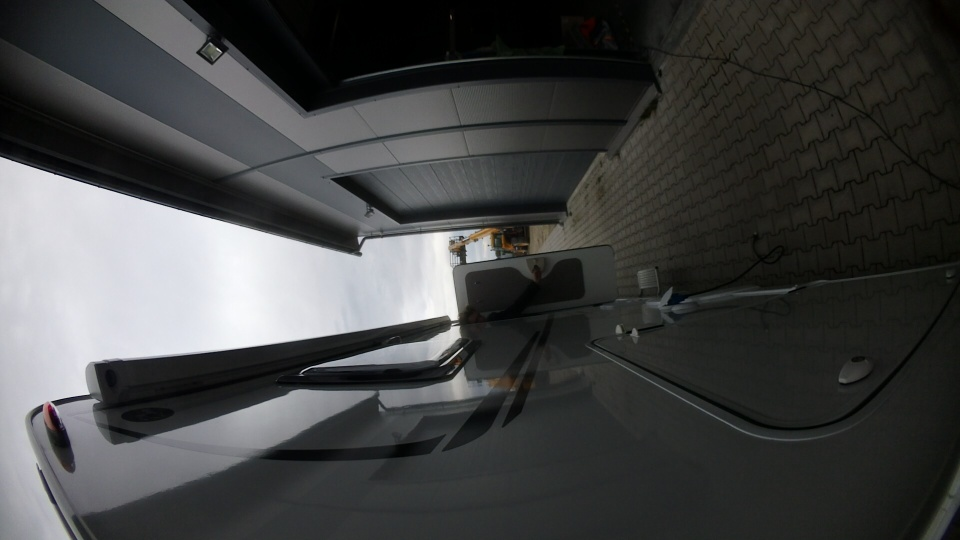door_back: (450, 239, 636, 330)
step_back: (631, 260, 666, 300)
